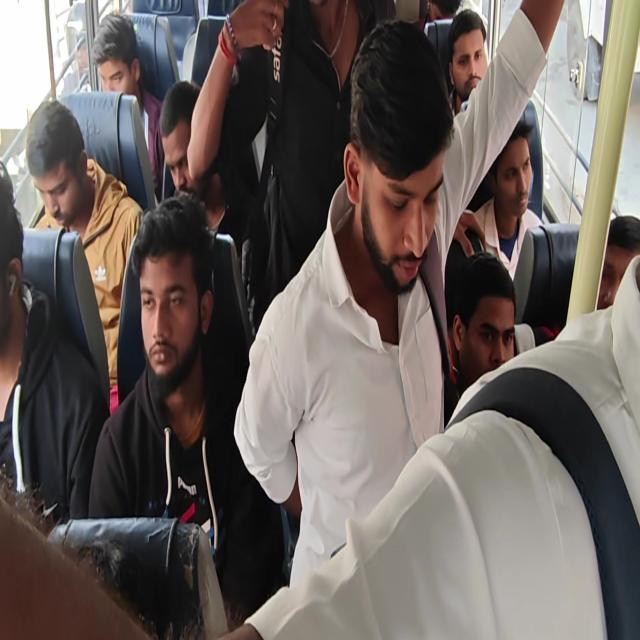person: (232, 0, 565, 591), (87, 192, 286, 626), (186, 0, 378, 334), (0, 170, 110, 524), (24, 99, 144, 415), (91, 13, 172, 202), (459, 118, 544, 282), (158, 79, 227, 235), (448, 247, 517, 397), (445, 8, 489, 115), (596, 214, 640, 310)
